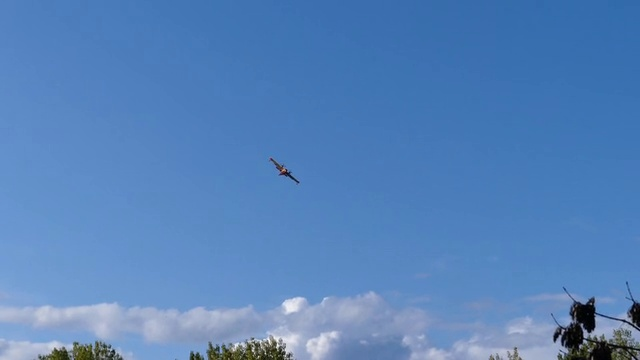plane: (268, 156, 300, 186)
